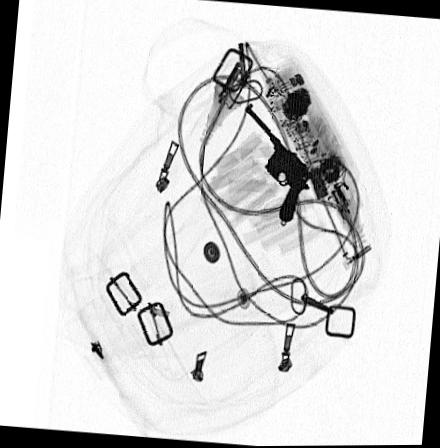Gun: (242, 103, 312, 223)
